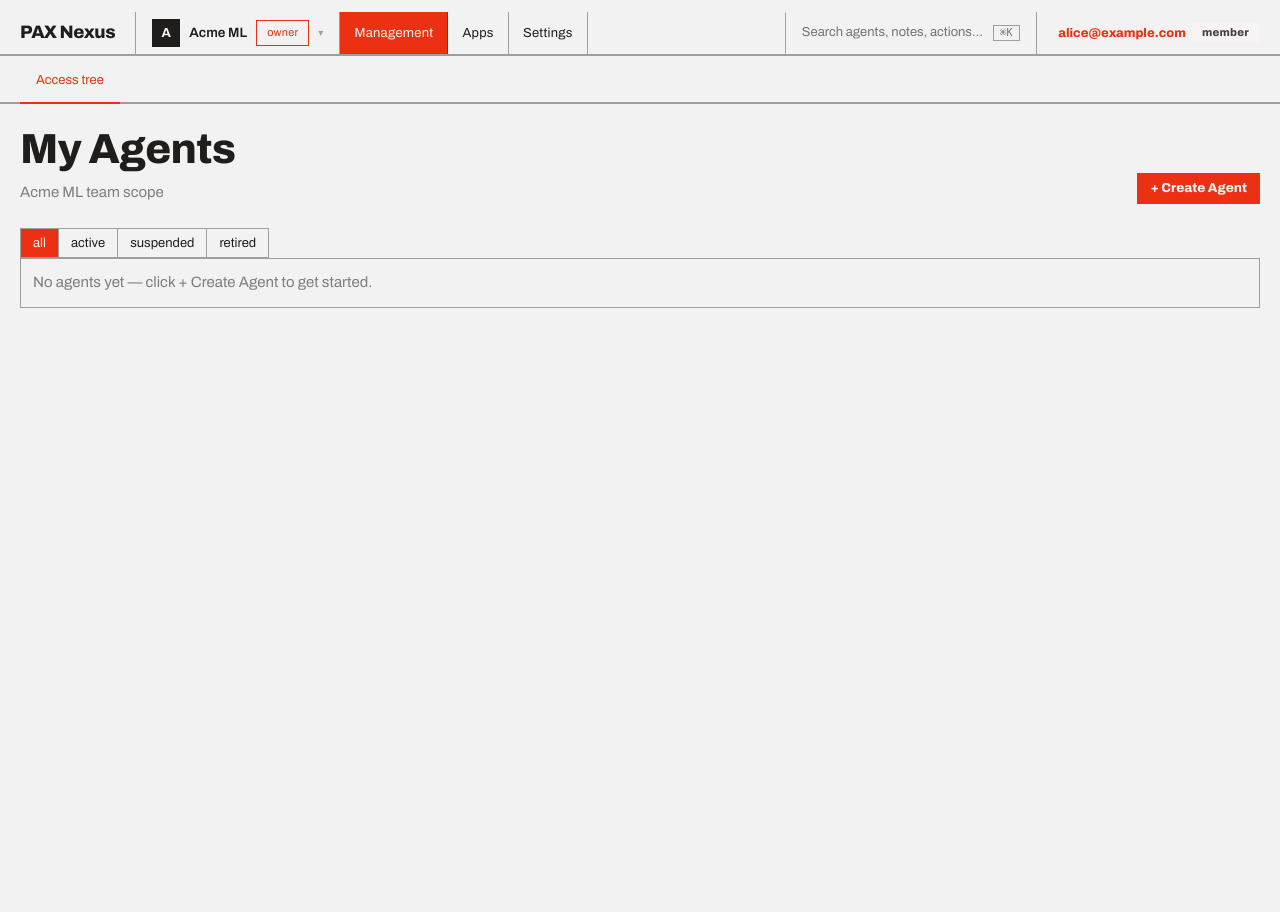
Test: team switcher › navigates to /welcome (join-another-team) from the popover footer rows
Expected: the heading "My Agents" is shown, [20,126,236,173]
Click the button "A Acme ML owner ▾" at (238, 33), box [152,15,323,51]
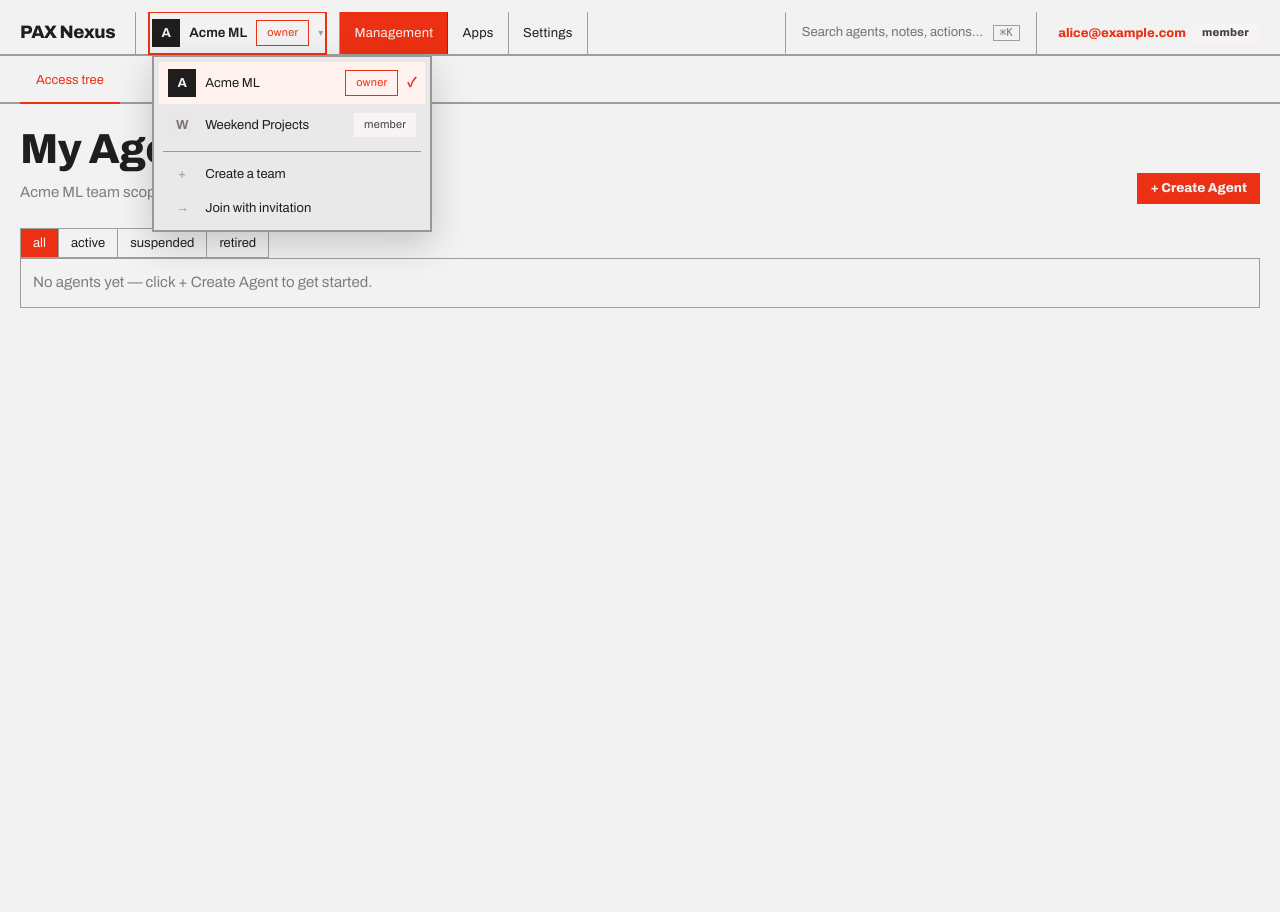
Click the menu item "→ Join with invitation" at (292, 208), box [159,191,425,225]
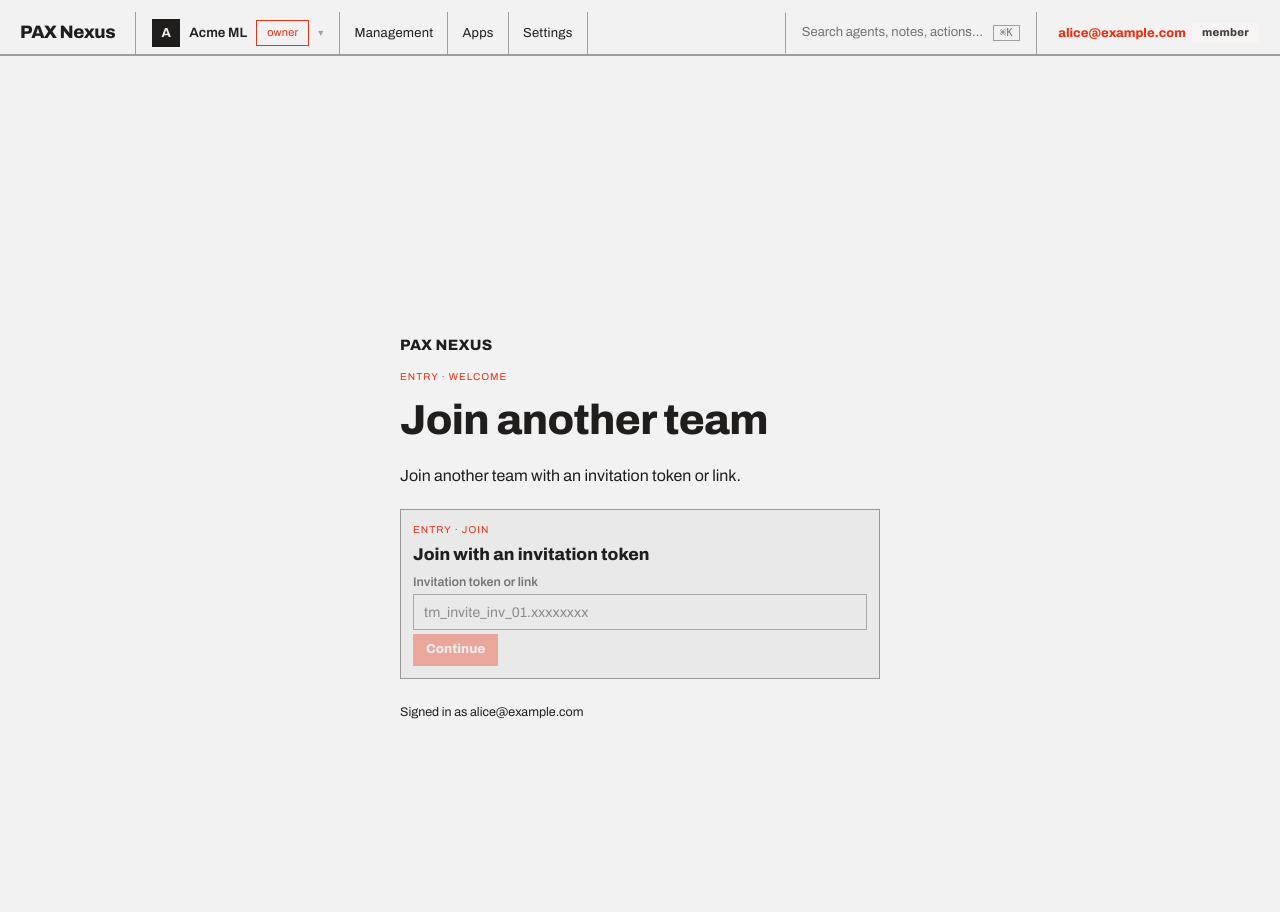
Result: the heading "Join another team" is shown at [400,397,768,443]
Result: the field labelled "Invitation token or link" is shown at [413,594,867,630]
